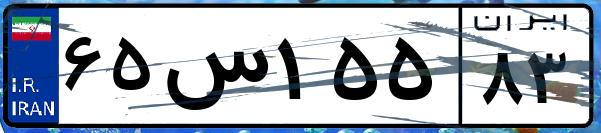1: (270, 28, 330, 110)
3: (525, 38, 570, 115)
5: (385, 28, 445, 110), (330, 28, 385, 110), (110, 28, 158, 98)
6: (57, 26, 110, 100)
8: (475, 38, 525, 113)
س: (158, 20, 270, 120)
